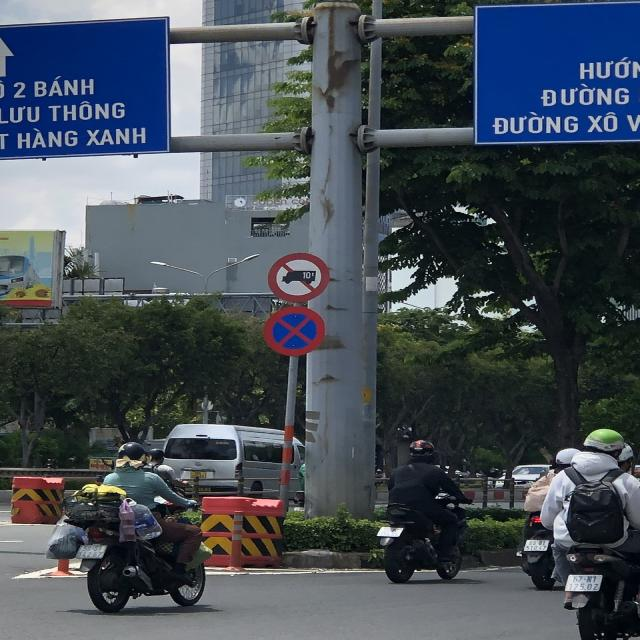Bien bao cam dung xe va do xe: (258, 303, 332, 361)
Bien bao cam xe oto tai: (266, 246, 332, 301)
